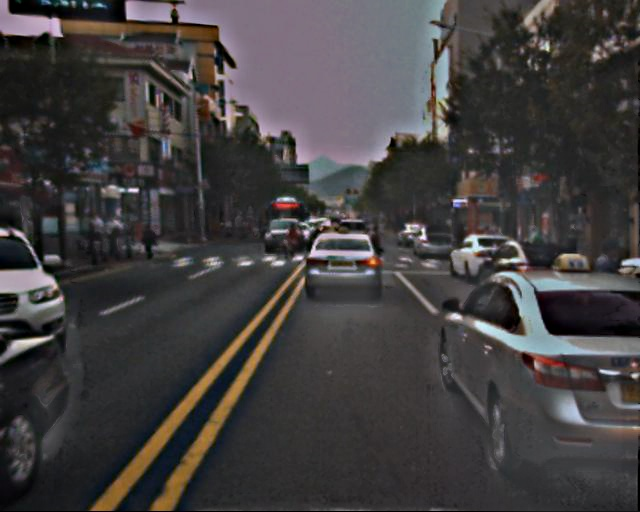person: (583, 240, 629, 351), (84, 218, 154, 263), (561, 220, 585, 279), (368, 225, 385, 267), (284, 225, 299, 261)
